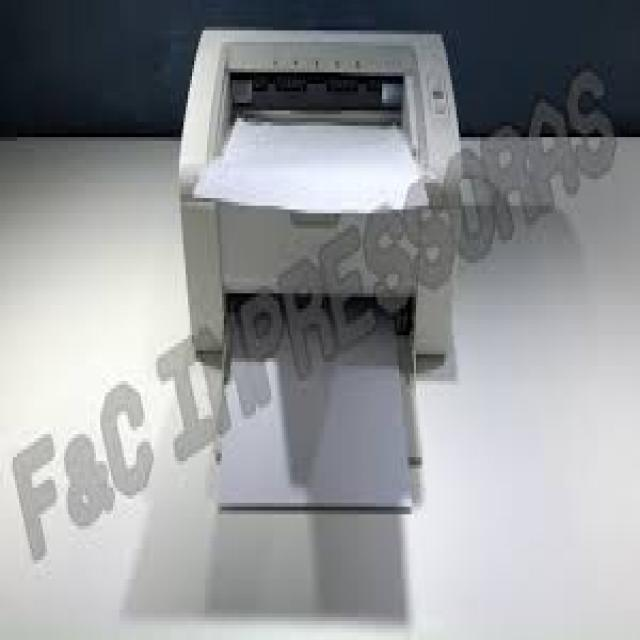printer: (177, 27, 464, 506)
